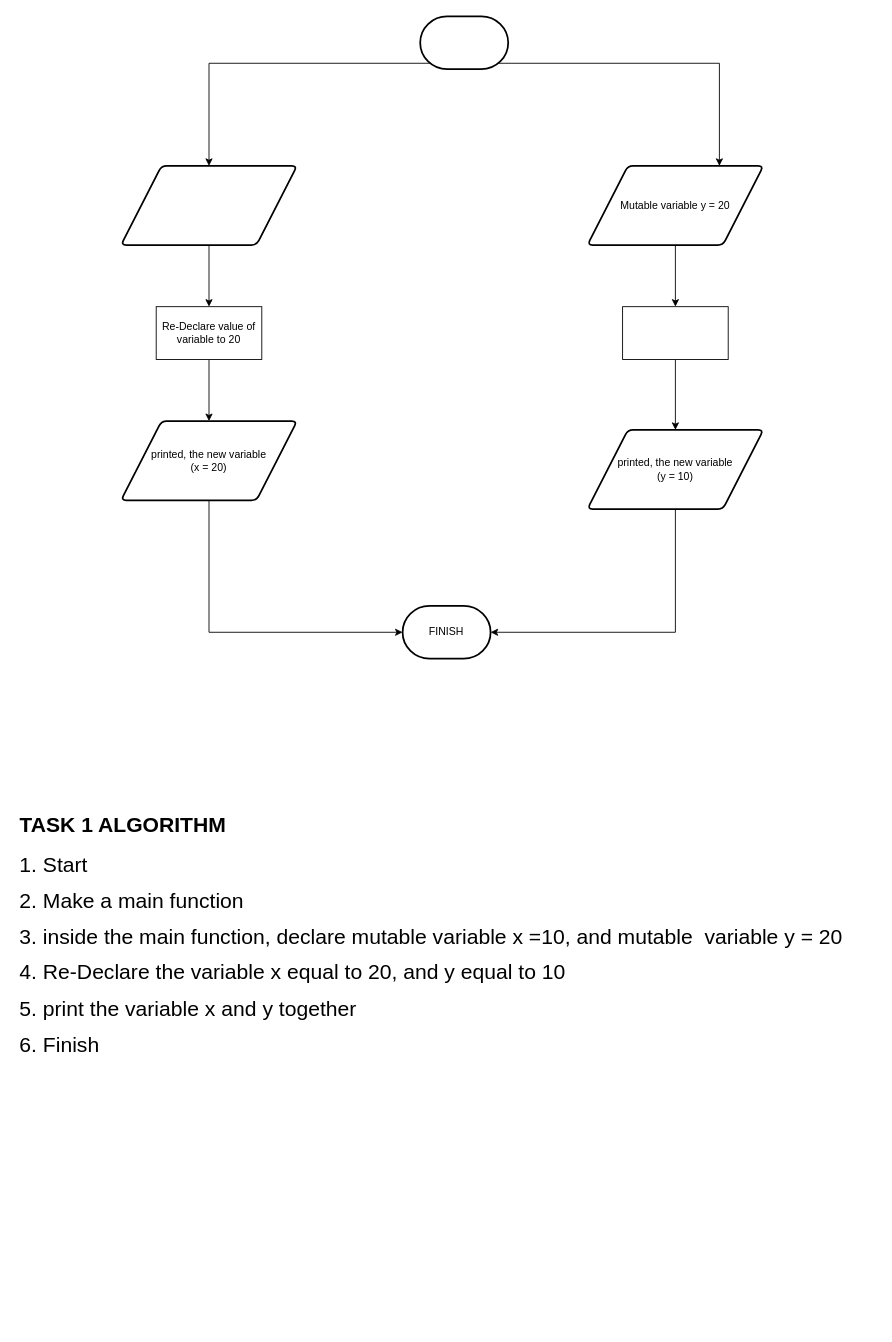
This 892x1342 diagram has some shape labels left out. The shapes that lost their labels are listed below. From the top down, each one's box as (x1, y1, x2, y2) in pixels, then its label:
(419, 15, 509, 70): START
(120, 165, 297, 246): Mutable variable x = 10
(622, 306, 728, 359): Re-Declare value of variable to 10
